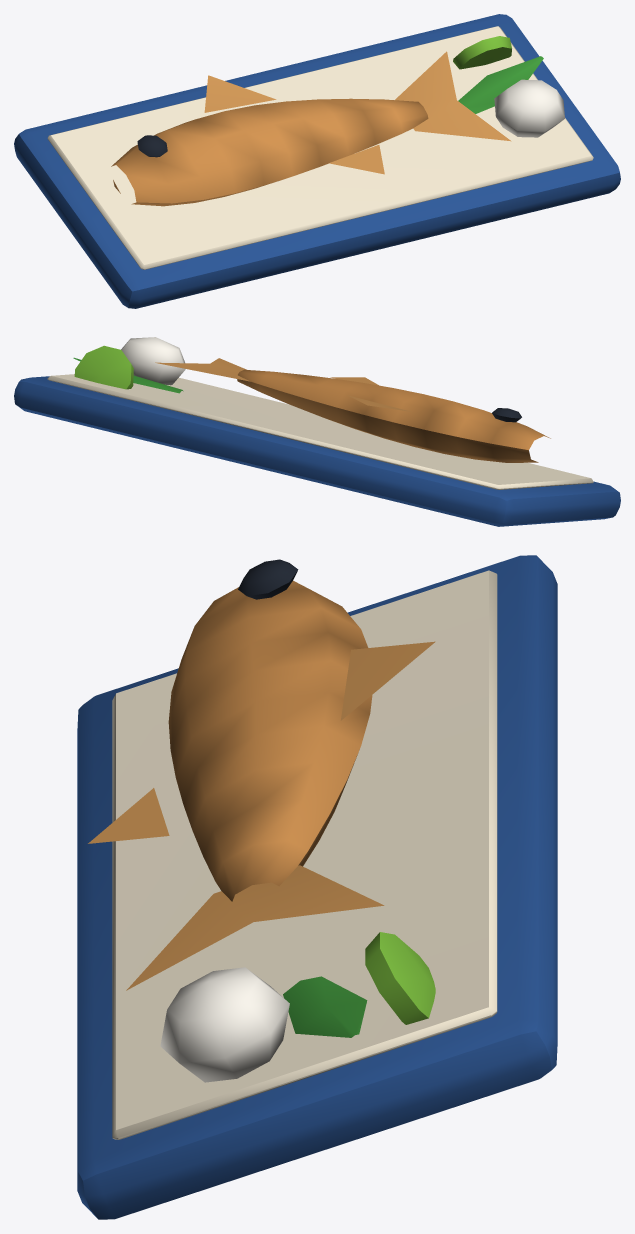
The model's file is plate-trout.glb.
The picture shows the model from 3 angles, top to bottom: view 1: azimuth 30°, elevation 25°; view 2: azimuth 150°, elevation 25°; view 3: azimuth 270°, elevation 25°; orthographic projection. The views are drawn at different scales.
Parts seen in each view (by area): view 1: Plate trout Dish cream, Plate trout Dish glaze, Plate trout Trout skin, Plate trout Daikon, Plate trout Leaves, Plate trout Sudachi, Plate trout Eye; view 2: Plate trout Dish glaze, Plate trout Trout skin, Plate trout Dish cream, Plate trout Daikon, Plate trout Sudachi, Plate trout Leaves, Plate trout Eye; view 3: Plate trout Dish cream, Plate trout Dish glaze, Plate trout Trout skin, Plate trout Daikon, Plate trout Sudachi, Plate trout Leaves, Plate trout Eye.
Part boxes in pixels (<box>): Plate trout Dish cream: <box>47,26,593,269</box>; Plate trout Dish glaze: <box>14,14,620,308</box>; Plate trout Trout skin: <box>111,51,511,206</box>; Plate trout Daikon: <box>494,79,564,137</box>; Plate trout Leaves: <box>458,56,543,113</box>; Plate trout Sudachi: <box>453,36,511,69</box>; Plate trout Eye: <box>137,135,167,157</box>; Plate trout Dish glaze: <box>14,376,620,526</box>; Plate trout Trout skin: <box>155,358,550,462</box>; Plate trout Dish cream: <box>47,374,593,489</box>; Plate trout Daikon: <box>121,337,185,385</box>; Plate trout Sudachi: <box>74,345,133,389</box>; Plate trout Leaves: <box>73,357,183,393</box>; Plate trout Eye: <box>492,408,521,422</box>; Plate trout Dish cream: <box>112,570,497,1139</box>; Plate trout Dish glaze: <box>77,555,557,1219</box>; Plate trout Trout skin: <box>88,580,435,990</box>; Plate trout Daikon: <box>160,967,289,1082</box>; Plate trout Sudachi: <box>365,932,435,1024</box>; Plate trout Leaves: <box>283,976,367,1037</box>; Plate trout Eye: <box>238,559,298,599</box>.
Size of the model in its own units: 0.5 by 0.1283 by 0.2088.
